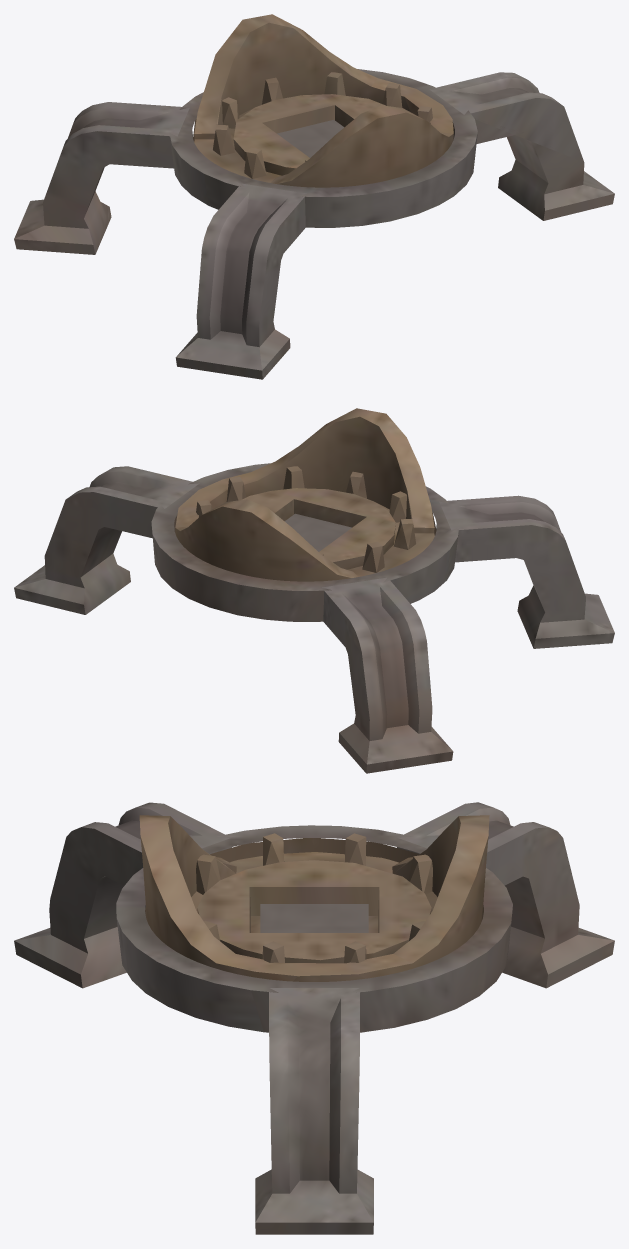
File: stack-inserter-east.glb
3 views of the same model, one above another, from view 1: azimuth 30°, elevation 25°; view 2: azimuth 150°, elevation 25°; view 3: azimuth 270°, elevation 25° (orthographic). The views are drawn at different scales.
Parts seen in each view (by area): view 1: body; view 2: body; view 3: body.
Part boxes in pixels (x1=…): body: x1=14, y1=14, x2=614, y2=379; body: x1=14, y1=408, x2=614, y2=773; body: x1=14, y1=802, x2=614, y2=1234.
Bounding box in the file's own units: 1.15 × 0.4164 × 0.9298.
1 material, 1 textured.
